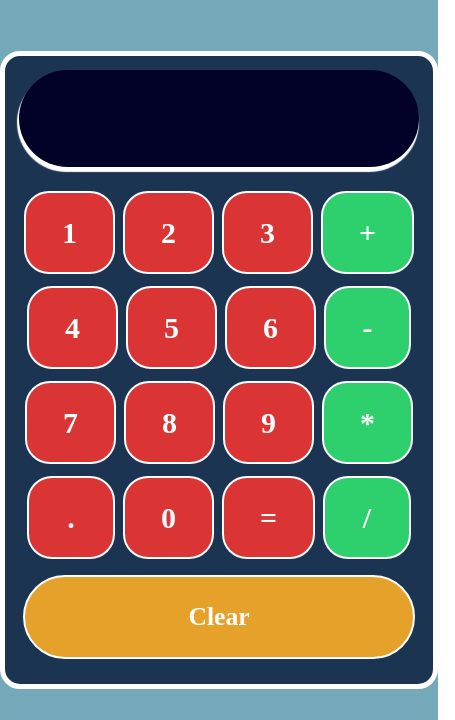
Test: Calculadora › debe mostrar "ERROR" cuando el resultado es negativo
This screenshot has width=455, height=720.
Click the button "1" at (70, 232), box [24,191,115,274]
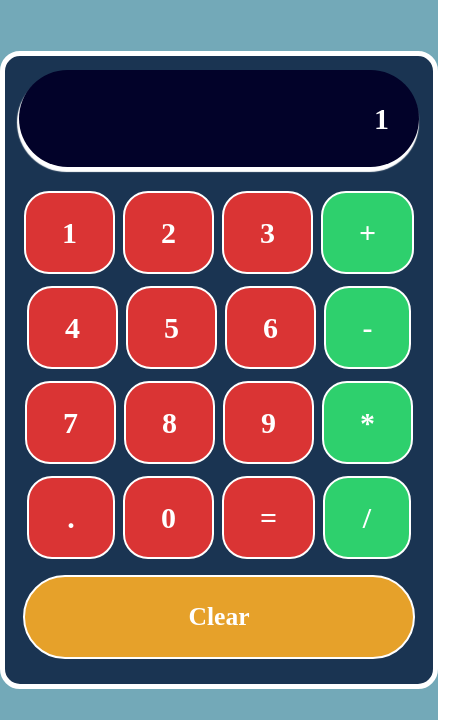
Click the button "-" at (368, 328), box [324,286,411,369]
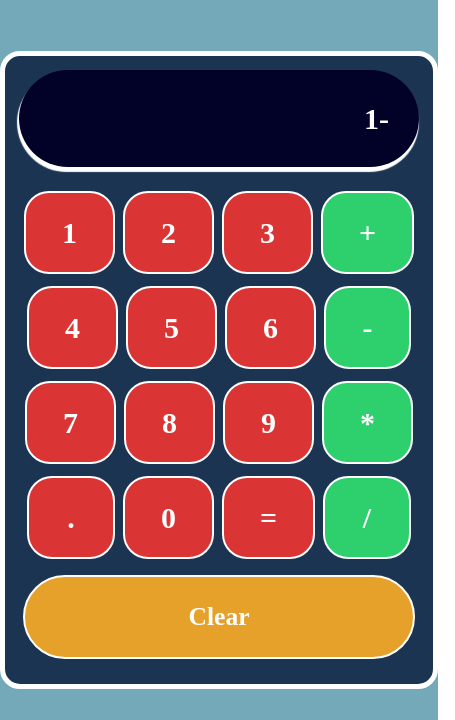
Click the button "2" at (168, 232), box [123,191,214,274]
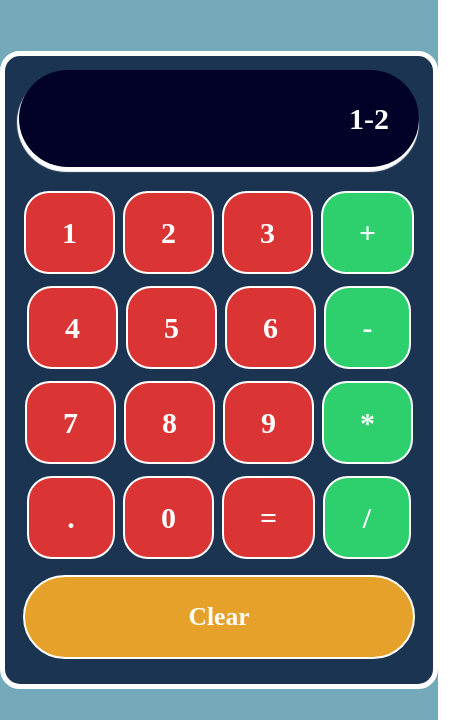
Click the button "=" at (269, 518), box [222,476,315,559]
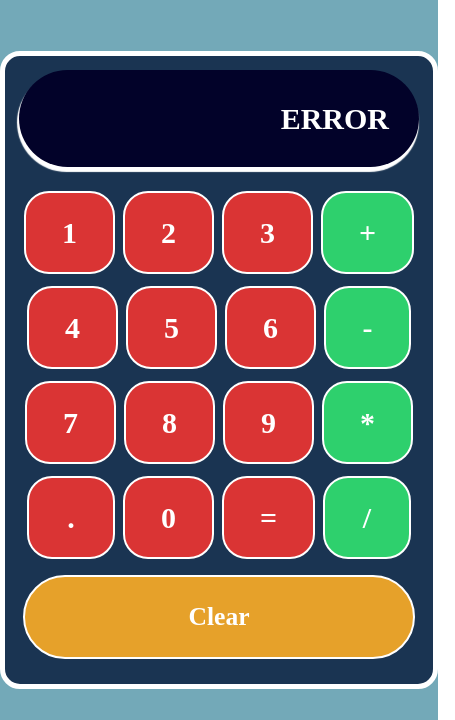
Result: the text "ERROR" is shown at [19,70,419,167]
